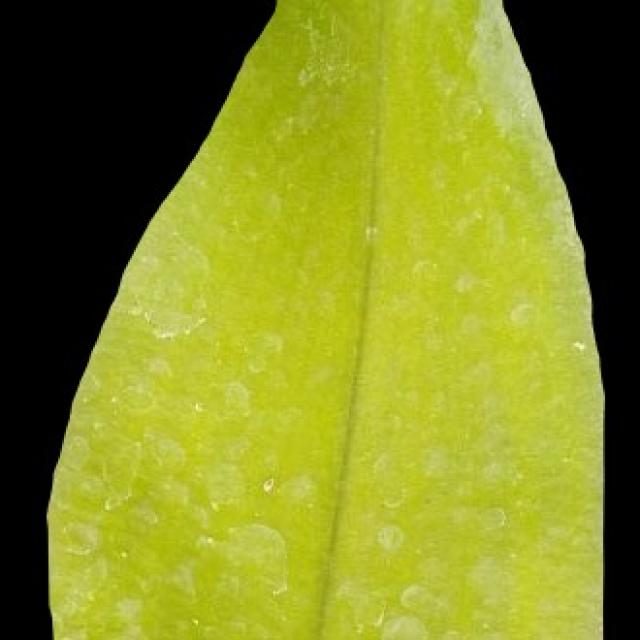mite: (221, 518, 291, 597), (242, 460, 291, 510), (376, 611, 429, 638), (372, 520, 405, 555), (252, 467, 281, 500), (258, 473, 275, 495), (568, 337, 586, 353)
spots: (43, 0, 605, 638)
